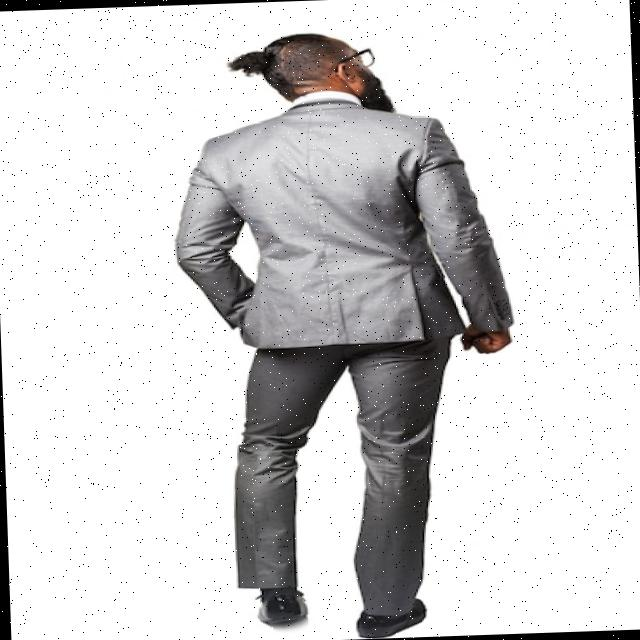Person: (169, 24, 522, 640)
